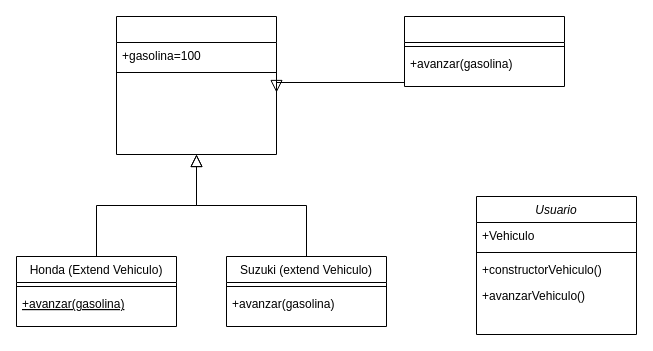
Some shapes in this 653 by 351 pixel diagram are drawn without their labels. The box of each missing label's shape, as (x1, y1, x2, y2) in pixels:
Nissan (Extend Vehiculo): (404, 16, 564, 86)
Vehiculo: (116, 16, 276, 154)
